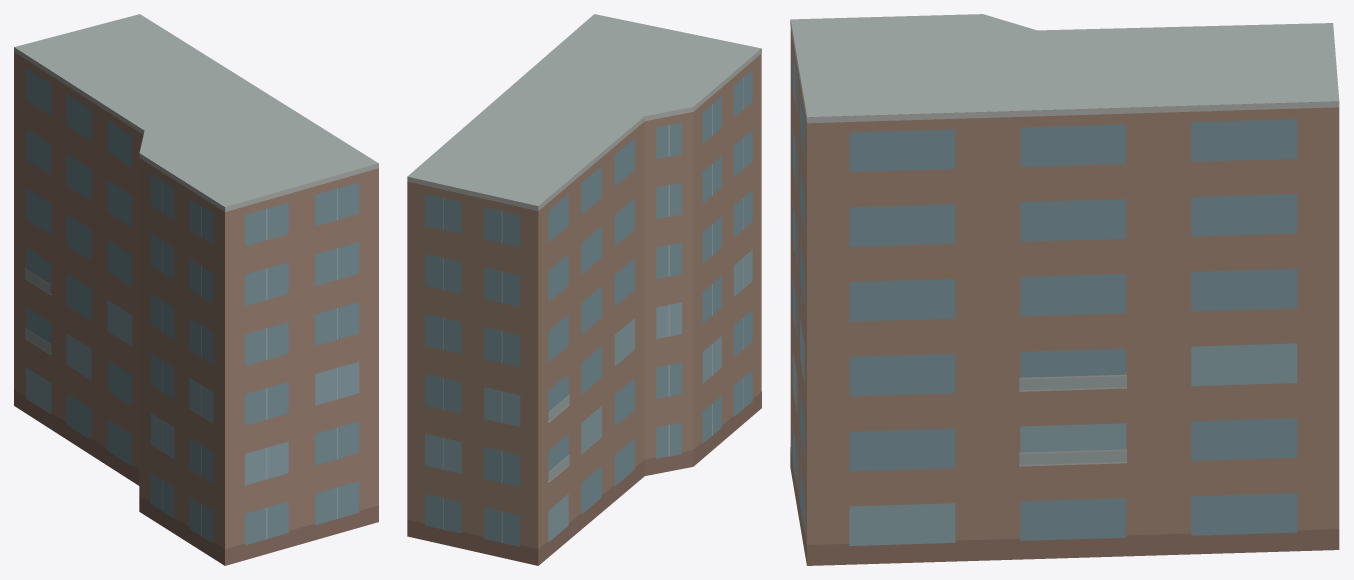
The model's file is survey-upis-32870389.glb.
3 views of the same model, side by side, from view 1: azimuth 30°, elevation 25°; view 2: azimuth 150°, elevation 25°; view 3: azimuth 270°, elevation 25° (orthographic). The views are drawn at different scales.
Visible parts, largest first — view 1: survey-upis-32870389.tmp; view 2: survey-upis-32870389.tmp; view 3: survey-upis-32870389.tmp.
Part boxes in pixels (x1,y1,x2,y2): survey-upis-32870389.tmp: [14, 14, 378, 565]; survey-upis-32870389.tmp: [407, 14, 761, 565]; survey-upis-32870389.tmp: [790, 14, 1339, 565].
Bounding box in the file's own units: 8.89 × 18 × 19.96.
